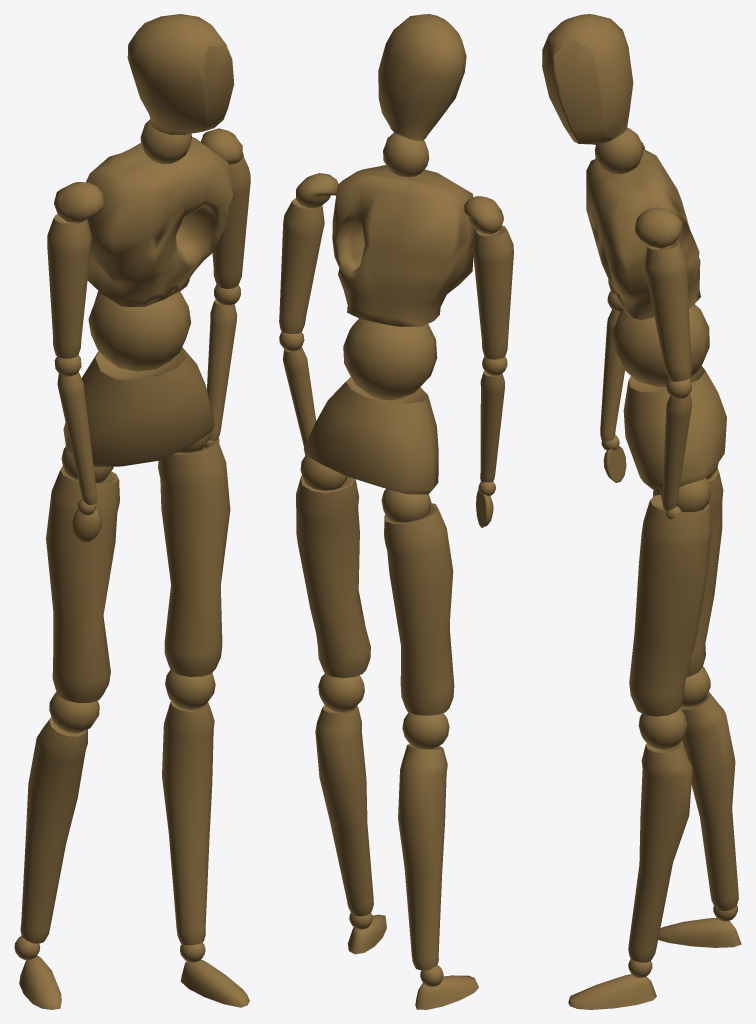
The model's file is maniqui_pose14.fbx.
3 renders of one model, left to right at view 1: azimuth 30°, elevation 25°; view 2: azimuth 150°, elevation 25°; view 3: azimuth 270°, elevation 25°, orthographic. The views are drawn at different scales.
Visible parts, largest first — view 1: dummy_obj.005; view 2: dummy_obj.005; view 3: dummy_obj.005.
Boxes of the visible parts, left/top/right/bottom form: dummy_obj.005: left=14, top=14, right=250, bottom=1009; dummy_obj.005: left=279, top=14, right=513, bottom=1009; dummy_obj.005: left=542, top=14, right=741, bottom=1009.
Bounding box in the file's own units: 40.74 × 176 × 33.14.
